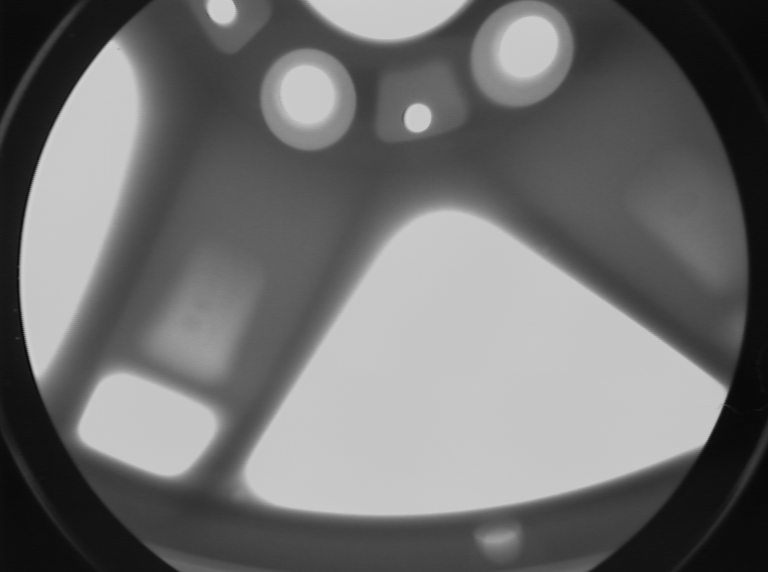defect: (226, 487, 252, 512)
